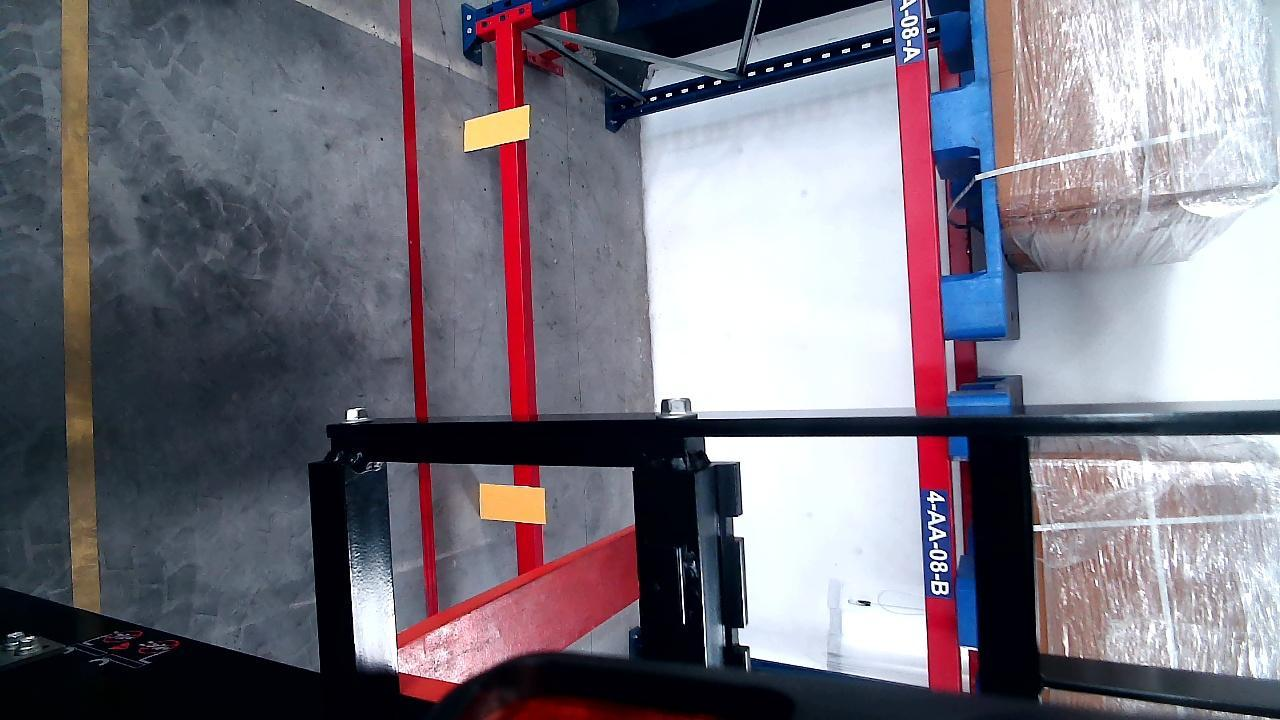red_line: (399, 0, 441, 620)
yellow_line: (59, 0, 100, 614)
